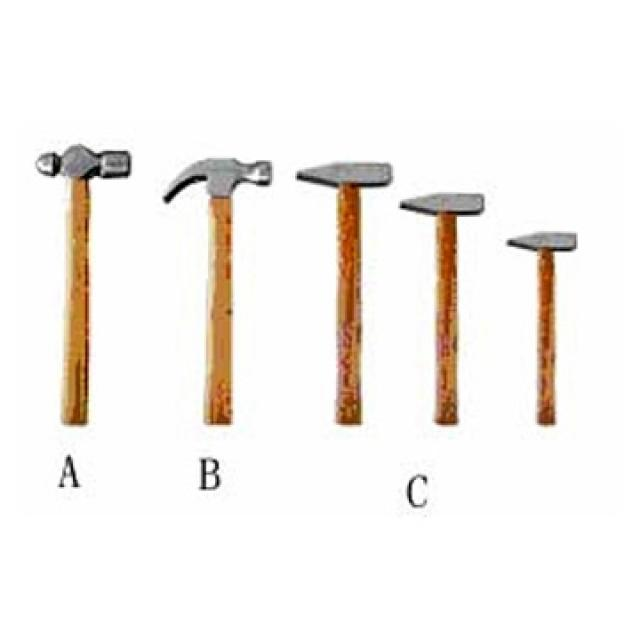hammer: (149, 130, 285, 438), (287, 137, 408, 436), (26, 127, 136, 441), (396, 151, 488, 438), (488, 211, 597, 451)
